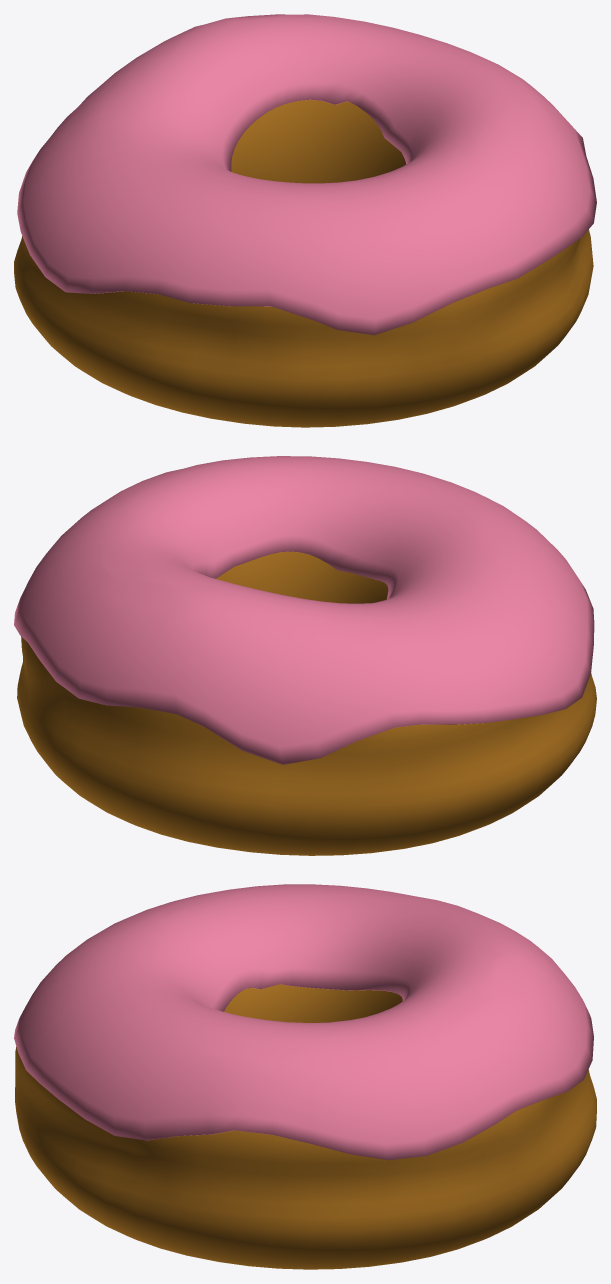
Rendered from donut.glb.
3 views of the same model, one above another, from view 1: azimuth 30°, elevation 25°; view 2: azimuth 150°, elevation 25°; view 3: azimuth 270°, elevation 25° (orthographic).
Visible parts, largest first — view 1: Torus; view 2: Torus; view 3: Torus.
Boxes of the visible parts, <box> form: Torus: <box>14,14,596,427</box>; Torus: <box>14,456,596,855</box>; Torus: <box>14,884,596,1269</box>.
Bounding box in the file's own units: 0.2038 × 0.0915 × 0.2025.
